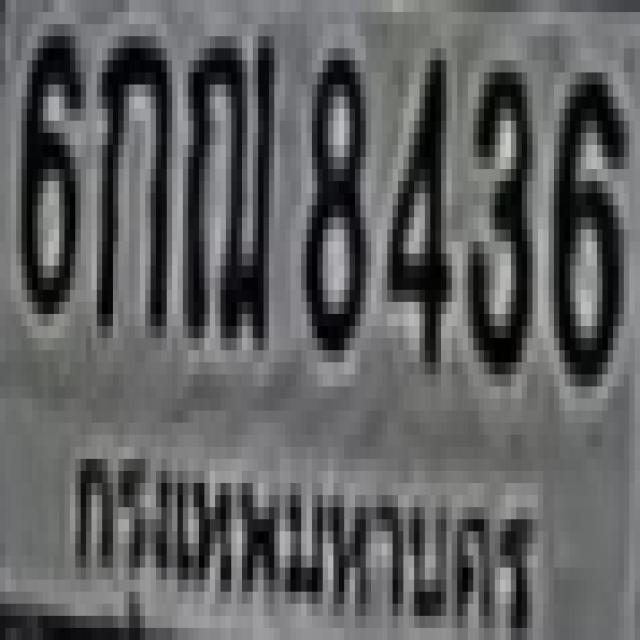3: (463, 49, 527, 362)
4: (382, 36, 446, 362)
6: (548, 61, 618, 374), (16, 24, 81, 302)
8: (302, 36, 361, 338)
A01: (91, 24, 167, 326)
A12: (180, 24, 272, 338)
BKK: (59, 430, 547, 640)
